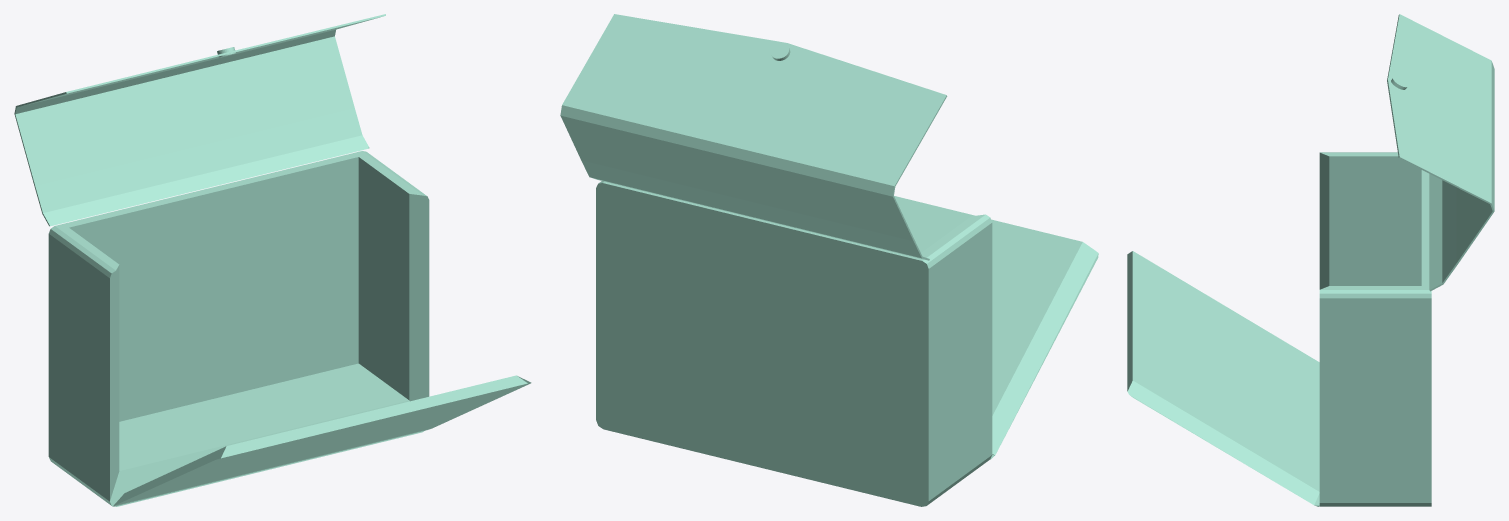
File: suitcase.glb
The picture shows the model from 3 angles, left to right: view 1: azimuth 30°, elevation 25°; view 2: azimuth 150°, elevation 25°; view 3: azimuth 270°, elevation 25°; orthographic projection. The views are drawn at different scales.
Parts seen in each view (by area): view 1: 24hTop, 24hTop.001, 24hTop.002; view 2: 24hTop, 24hTop.001, 24hTop.002; view 3: 24hTop, 24hTop.002, 24hTop.001.
Part boxes in pixels (<box>): 24hTop: <box>48,151,429,506</box>; 24hTop.001: <box>14,14,385,226</box>; 24hTop.002: <box>113,375,531,506</box>; 24hTop: <box>596,181,994,506</box>; 24hTop.001: <box>560,14,947,260</box>; 24hTop.002: <box>894,196,1098,459</box>; 24hTop: <box>1314,152,1431,506</box>; 24hTop.002: <box>1127,251,1319,505</box>; 24hTop.001: <box>1387,14,1494,291</box>.
Size of the model in its own units: 2.96 by 3.48 by 3.22.
